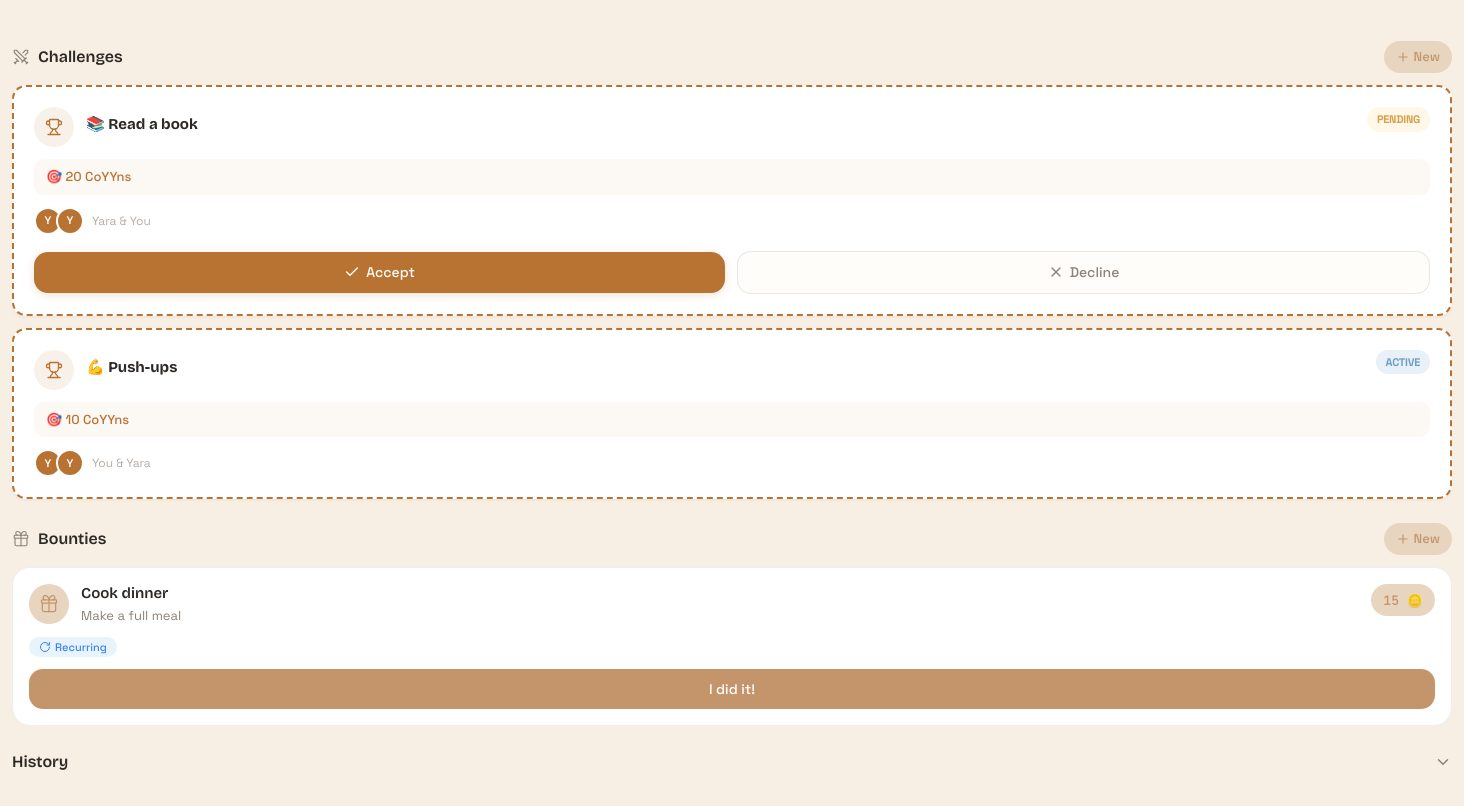
Test case: CoyynsTabPage › shows history list on toggle click
(page scrolled)
Click the button with test id "history-toggle" at {"x": 40, "y": 762}, box [12, 750, 1452, 774]
(page scrolled)
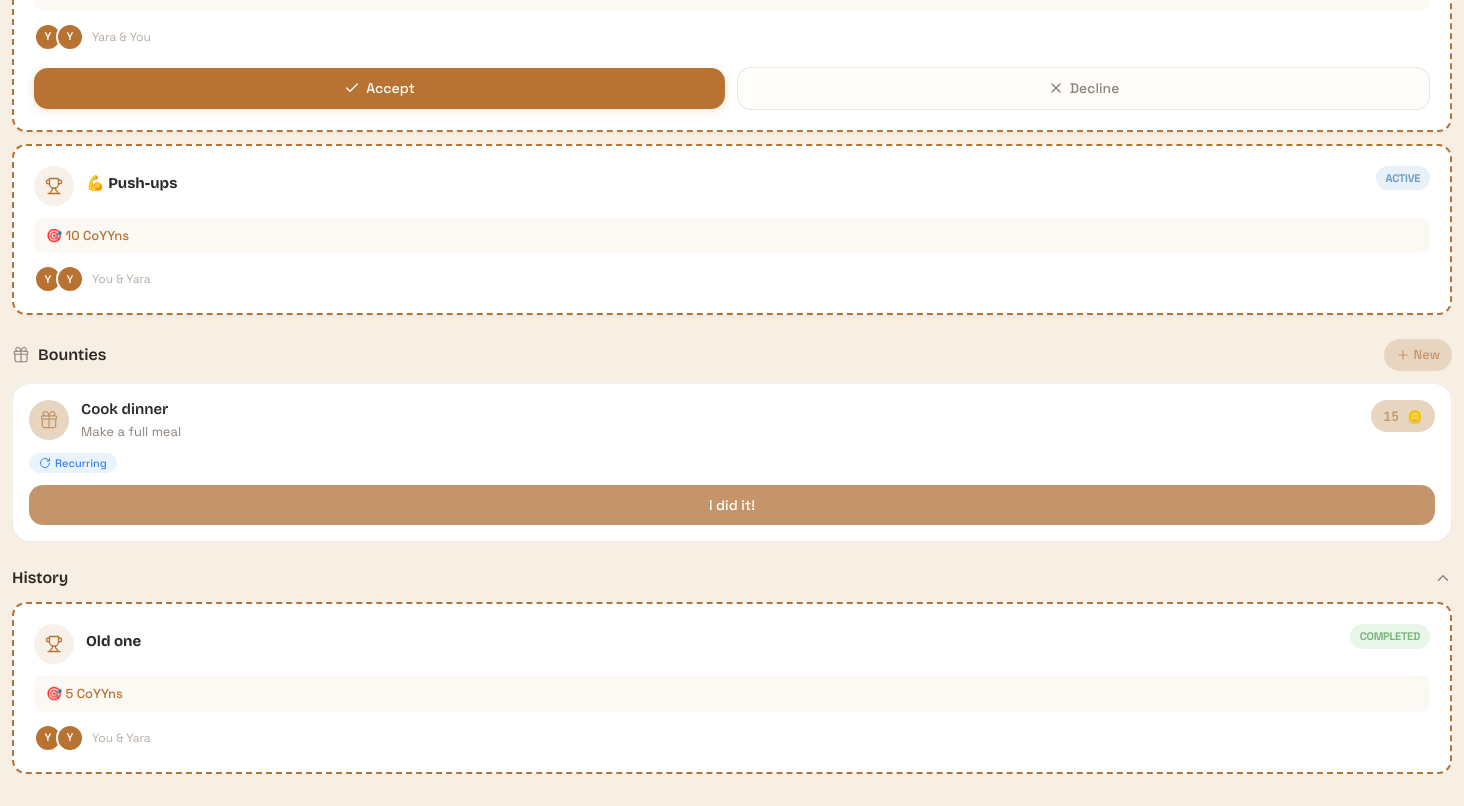
Now the element with test id "history-list" is shown, box [12, 590, 1452, 774]
